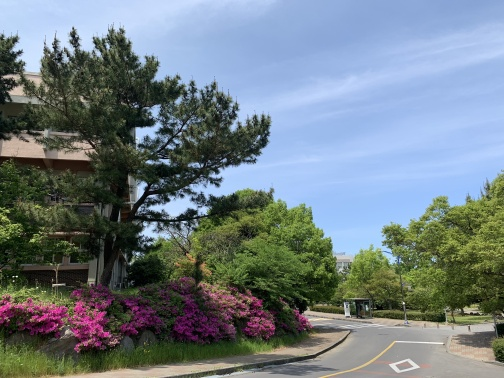College Of Education: (2, 69, 143, 296)
